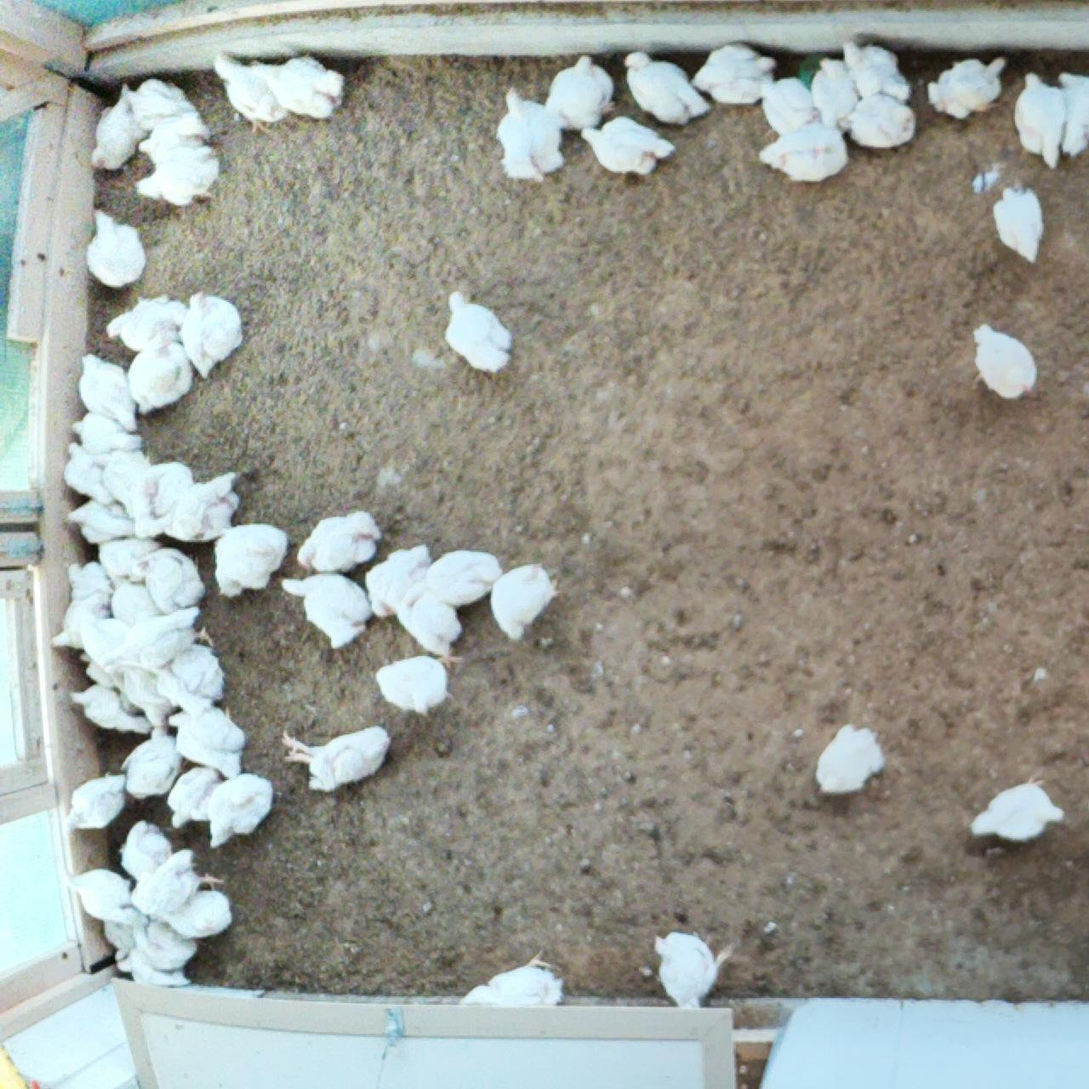chicken: (455, 950, 572, 1021), (282, 721, 395, 794), (968, 766, 1071, 846), (94, 604, 216, 669), (492, 85, 571, 184), (276, 569, 371, 648), (129, 845, 227, 921), (649, 926, 736, 1007), (152, 468, 242, 546), (390, 579, 467, 669), (621, 49, 709, 127), (247, 53, 345, 122), (404, 547, 505, 612), (166, 701, 247, 781), (212, 51, 290, 134), (178, 290, 249, 380), (441, 287, 514, 374), (89, 83, 158, 174), (577, 116, 676, 179), (126, 337, 201, 419), (542, 56, 620, 134), (1011, 67, 1070, 170), (373, 654, 472, 715), (212, 521, 291, 597), (490, 561, 565, 640), (690, 42, 779, 108), (757, 122, 852, 183), (100, 292, 190, 355), (296, 509, 383, 574), (135, 146, 224, 209), (930, 54, 1010, 124), (971, 319, 1040, 400), (814, 723, 885, 801), (207, 771, 276, 851), (367, 540, 435, 621), (119, 721, 186, 803), (83, 202, 145, 289), (131, 545, 206, 615), (107, 658, 178, 731), (834, 91, 917, 151), (77, 349, 138, 430), (989, 184, 1048, 267), (840, 38, 913, 104), (807, 55, 869, 131), (63, 492, 150, 546), (79, 614, 145, 685), (121, 72, 201, 130), (66, 680, 154, 731), (167, 764, 235, 830), (125, 458, 200, 517), (129, 911, 201, 972), (133, 109, 220, 159), (61, 771, 130, 833), (67, 866, 138, 926), (160, 644, 224, 710), (49, 586, 111, 654), (159, 887, 234, 941), (757, 75, 822, 137), (118, 820, 177, 888), (62, 437, 118, 507), (108, 944, 193, 990), (93, 533, 165, 587), (68, 411, 147, 458), (124, 478, 181, 542), (98, 904, 153, 963), (66, 556, 117, 615), (1057, 68, 1089, 161), (95, 447, 146, 503)
